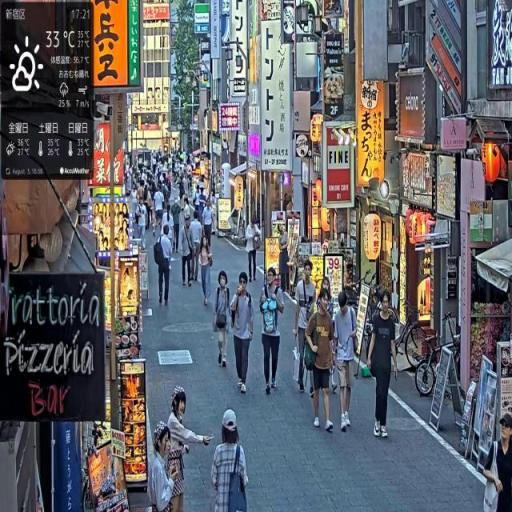person: (166, 386, 213, 512), (304, 285, 337, 436), (368, 291, 401, 440), (210, 406, 250, 512), (333, 287, 360, 435), (259, 262, 286, 400), (294, 261, 319, 395), (481, 410, 512, 512), (231, 271, 255, 397), (150, 423, 178, 512), (213, 272, 232, 370), (155, 221, 175, 307), (200, 230, 215, 308), (181, 214, 196, 290), (279, 223, 292, 299), (245, 217, 259, 283), (203, 200, 215, 259)
